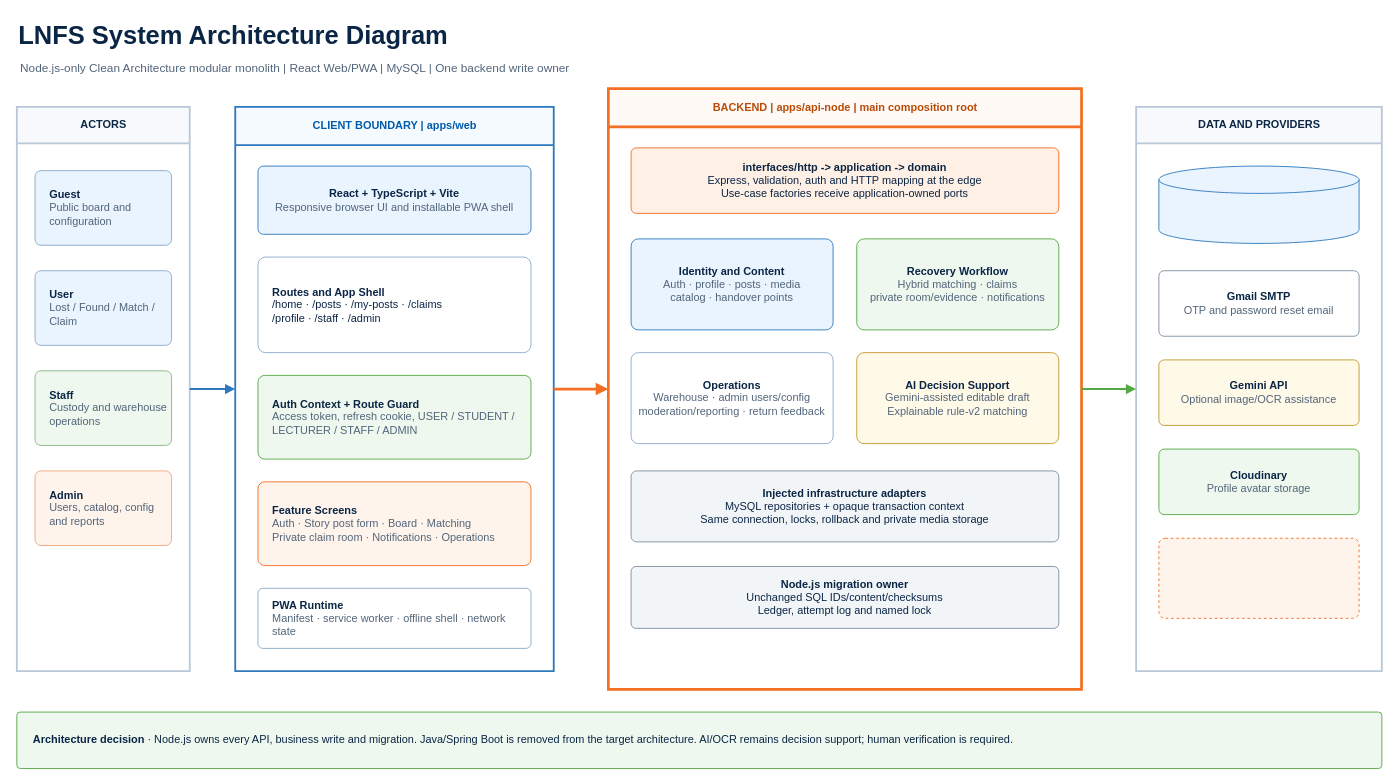
The diagram is 1398 pixels wide and 784 high, and some of its shapes have lost their labels. The shapes that lost their labels are listed below. From the top down, each one's centre as x and y in pixels, then its label:
(1258,204): Aiven MySQL 8 TLS · transactional business data
(1258,577): Protected Local Files Post and claim evidence Current deployment limitation
